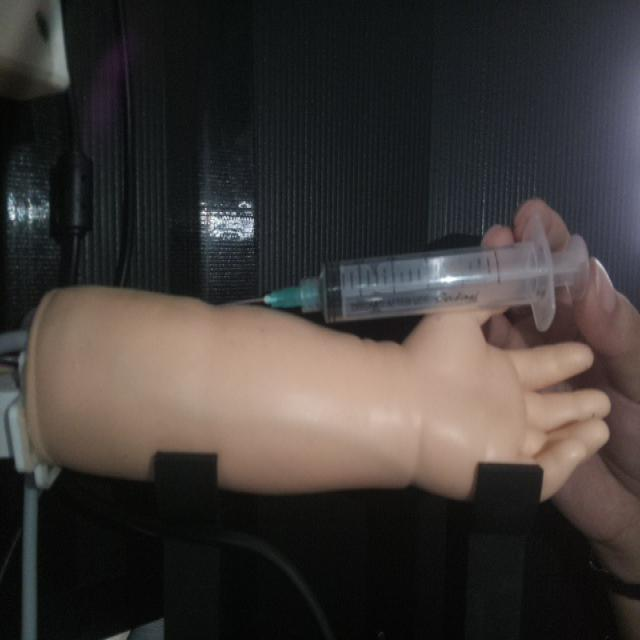Outside: (229, 209, 592, 332)
